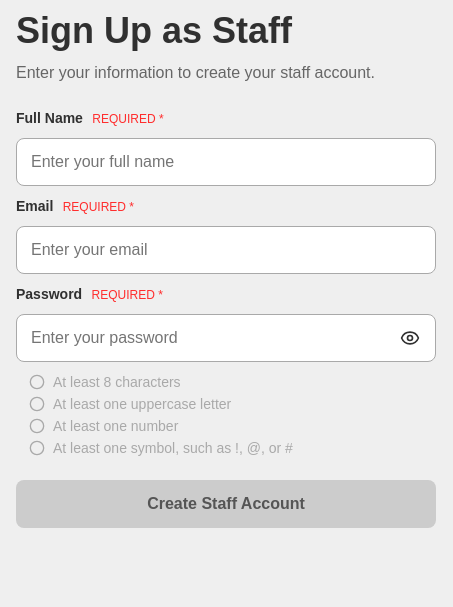
Scenario: StaffSignup › submits the signup fields and shows successful registration
Type "Staff Test" into the field labelled "Full Name" at (226, 162), box [16, 138, 436, 186]
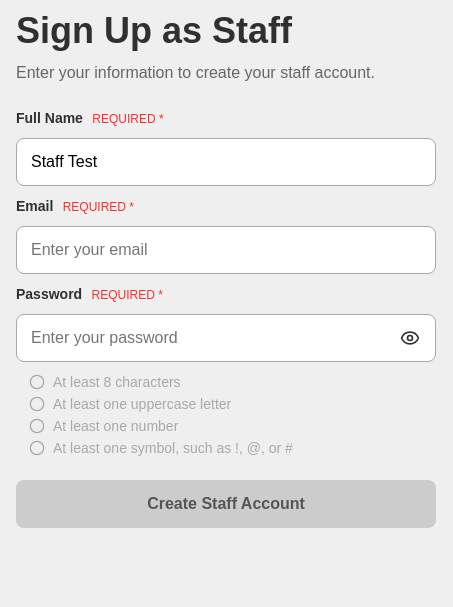
Type "staff.test@example.com" into the field labelled "Email" at (226, 250), box [16, 226, 436, 274]
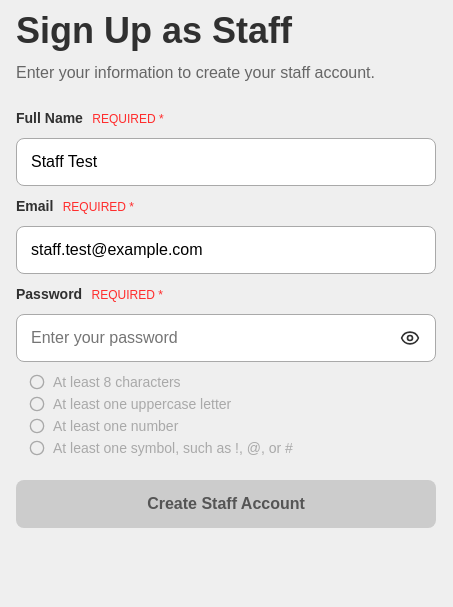
Type "LocalTestPass123!" into the password field labelled "Password" at (226, 338), box [16, 314, 436, 362]
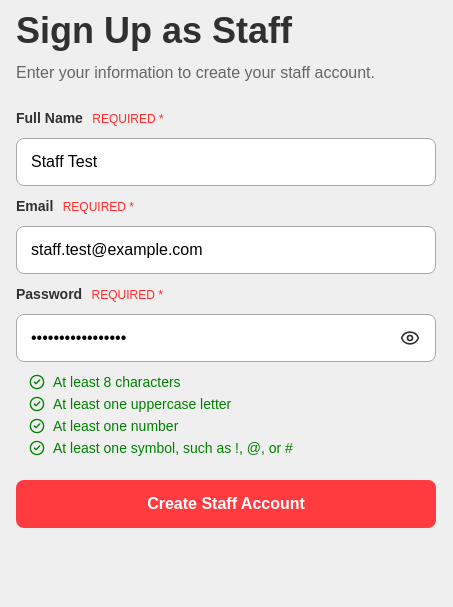
Click the button "Create Staff Account" at (226, 504), box [16, 480, 436, 528]
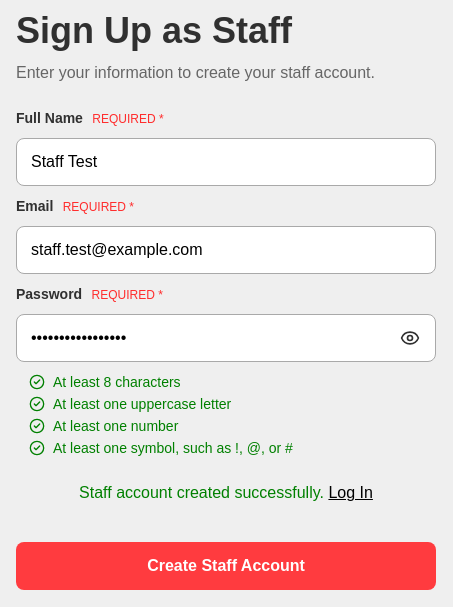
Now the message shows "Staff account created successfully.", box [79, 484, 324, 501]
